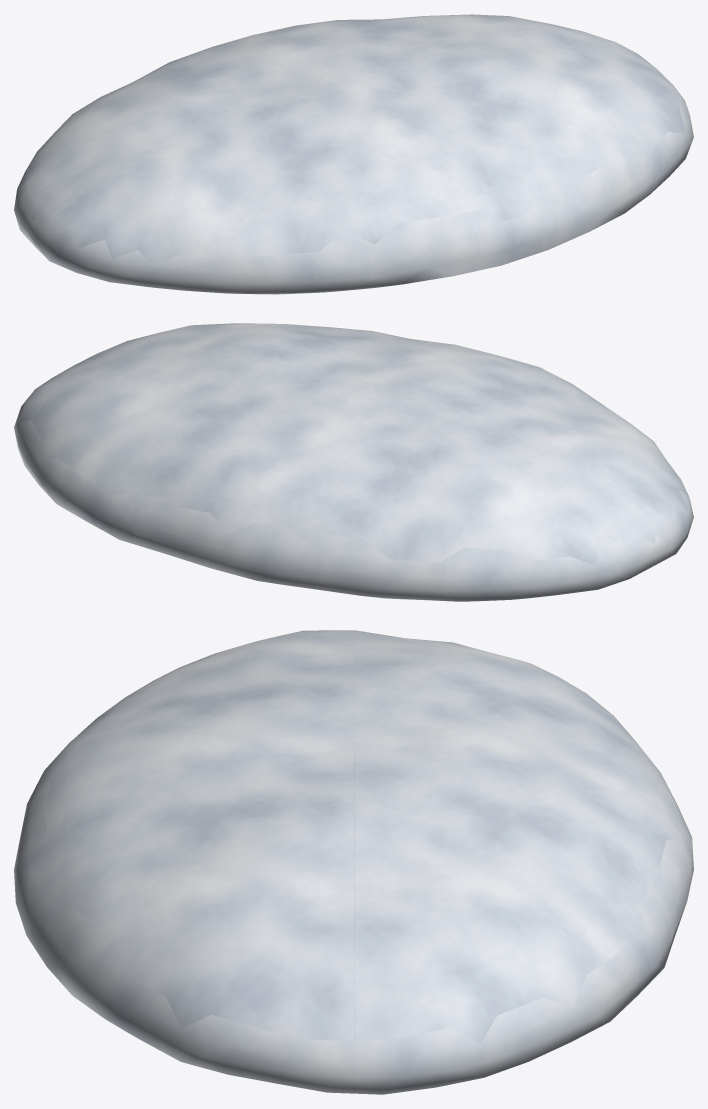
File: snow-drift-v01.glb
3 views of the same model, one above another, from view 1: azimuth 30°, elevation 25°; view 2: azimuth 150°, elevation 25°; view 3: azimuth 270°, elevation 25° (orthographic). The views are drawn at different scales.
Visible parts, largest first — view 1: drift; view 2: drift; view 3: drift.
Boxes of the visible parts, x1,y1,x2,y2 form: drift: (14,14,693,294); drift: (14,323,693,601); drift: (14,630,693,1094).
Size of the model in its own units: 4.42 by 0.7048 by 3.04.
1 material, 1 textured.
